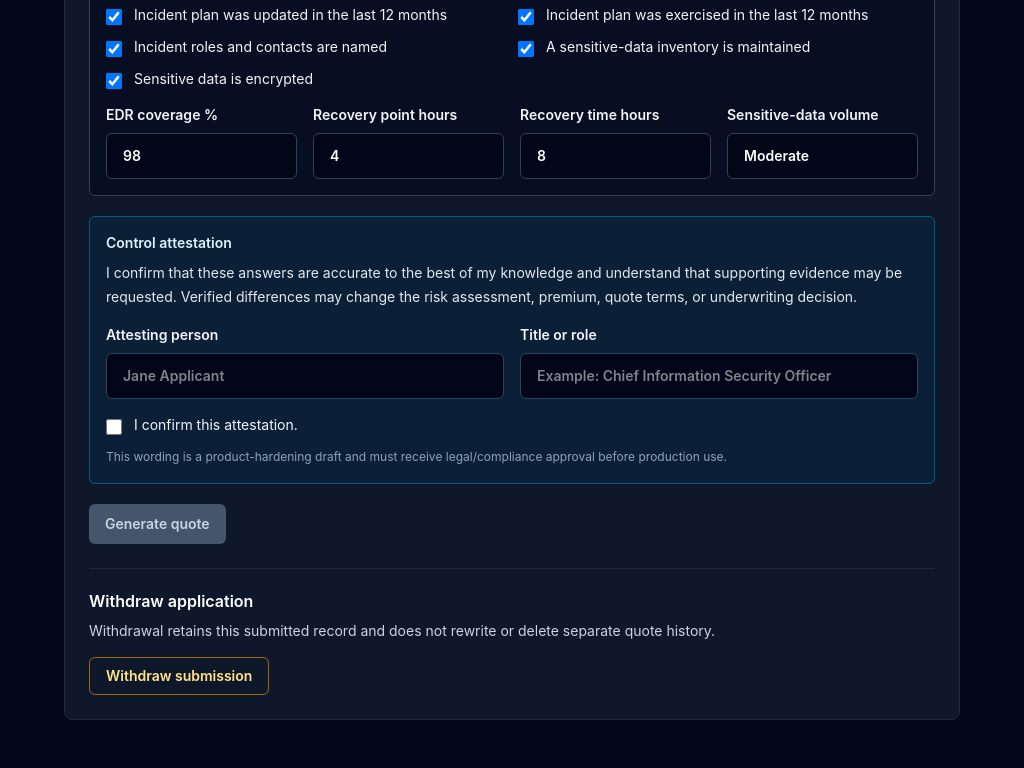
Test case: SubmissionDetailPage › offers withdrawal for an eligible submitted application
The width and height of the screenshot is (1024, 768).
(page scrolled)
Step 1. Click the button "Withdraw submission" → (179, 676), box [89,657,269,695]
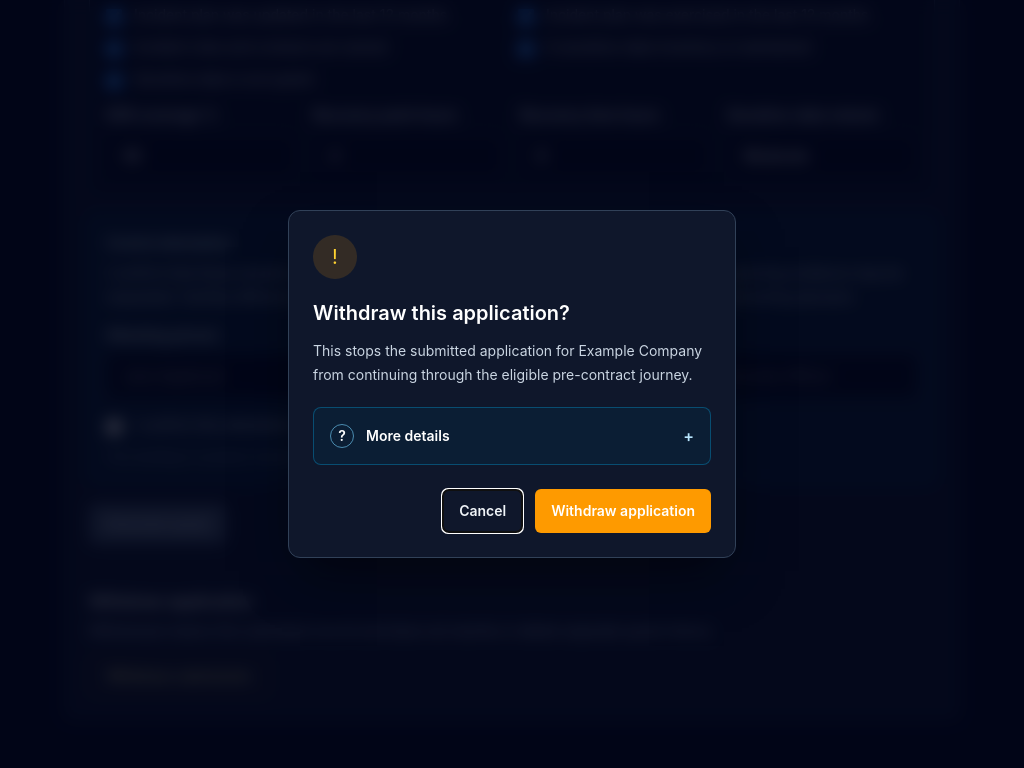
Check: the dialog "Withdraw this application?" does not show "Why is withdrawal different from deletion?", box [288,210,736,558]
Step 2. Click the button "? More details +" → (408, 436), box [330,424,694,448]
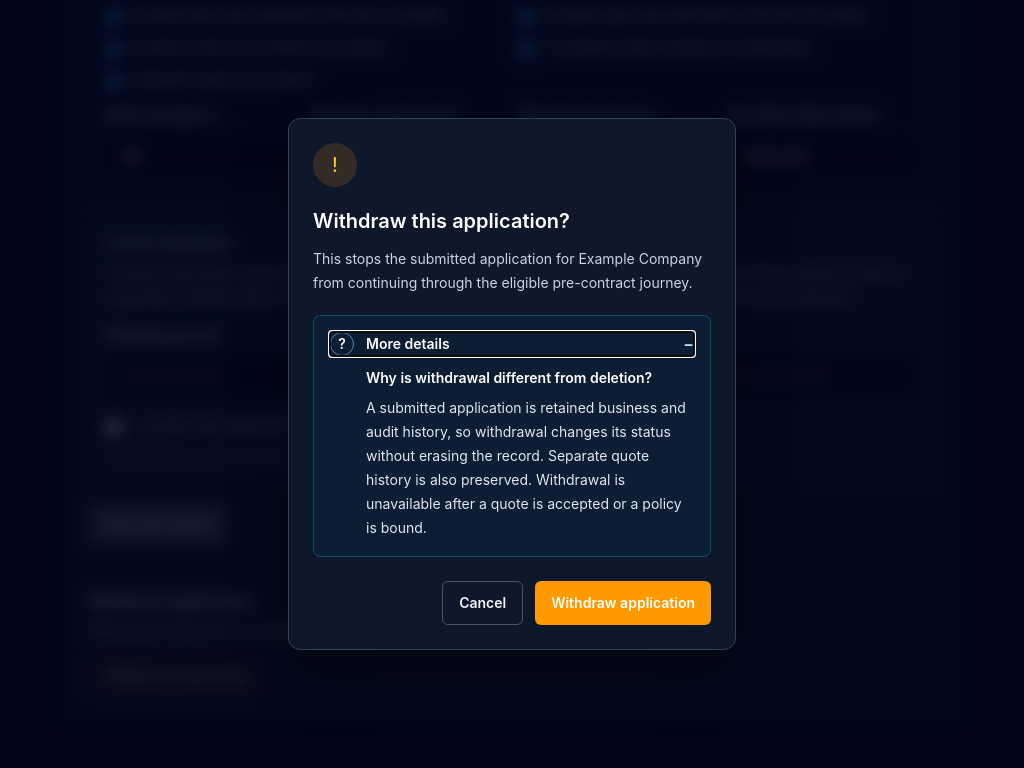
Check: the dialog "Withdraw this application?" shows "Why is withdrawal different from deletion?", box [366,369,652,386]
Check: the dialog "Withdraw this application?" shows "without erasing the record", box [366,399,686,536]
Step 3. Click the button "Withdraw application" → (623, 603), box [535,581,711,625]
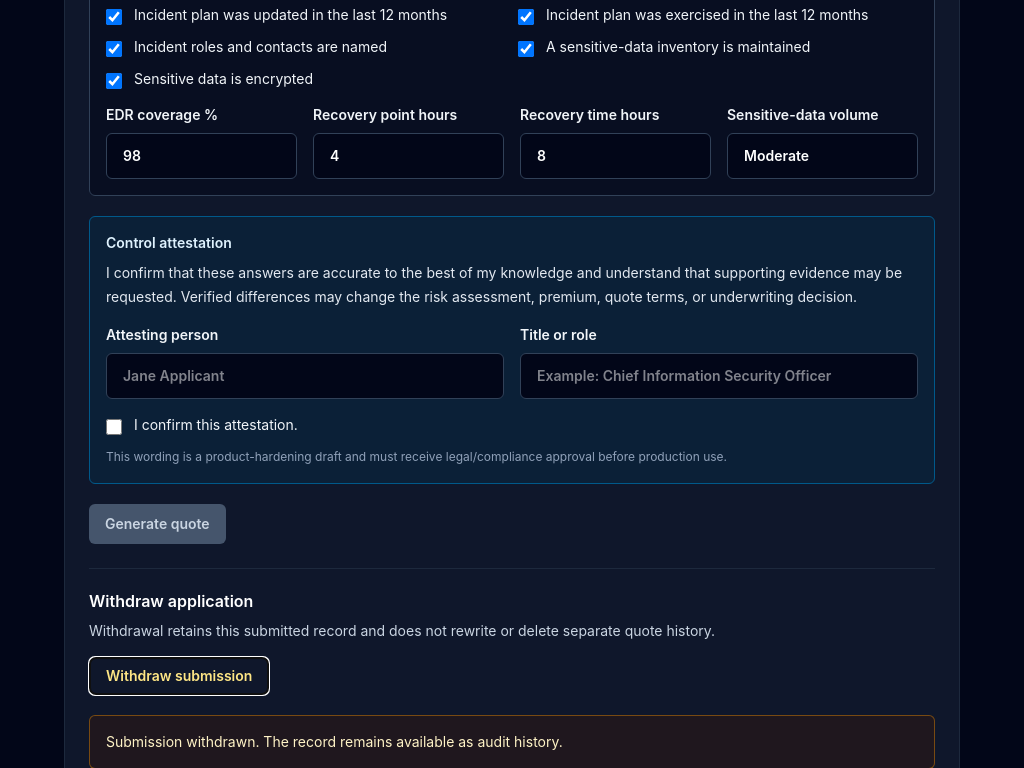
Check: the text "record remains available as audit history" is shown, box [106,733,563,750]
